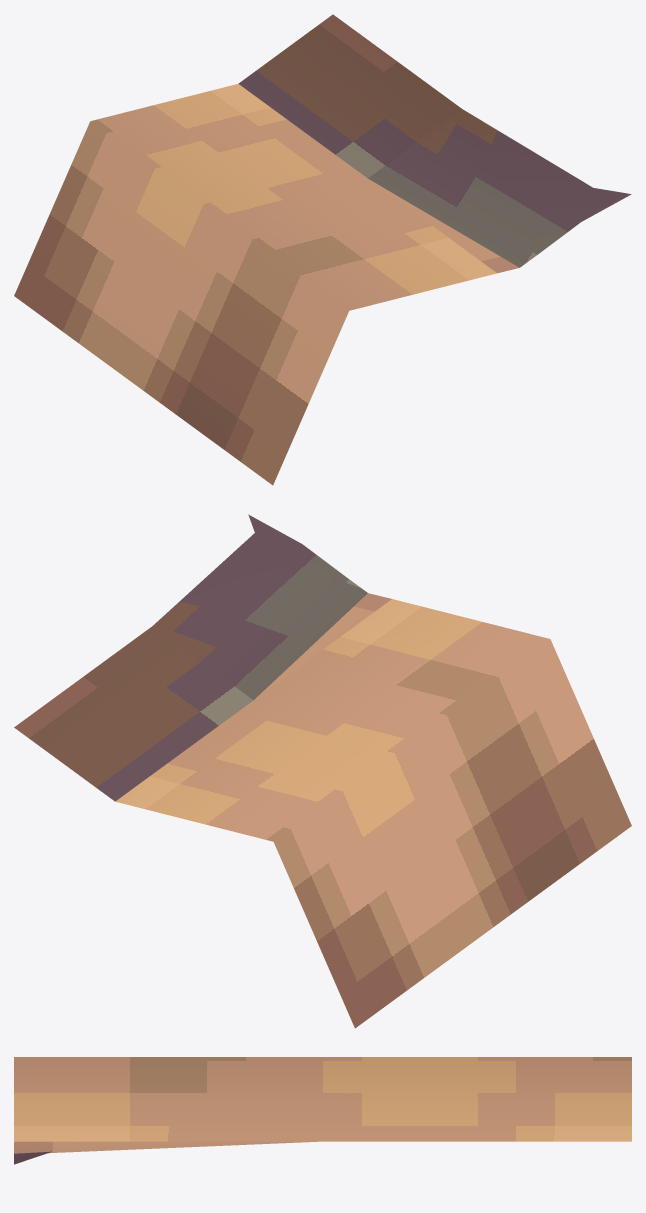
3 views of the same model, one above another, from view 1: azimuth 30°, elevation 25°; view 2: azimuth 150°, elevation 25°; view 3: azimuth 270°, elevation 25° (orthographic). The views are drawn at different scales.
Bounding box in the file's own units: 0.8 × 0.4342 × 1.
Materials: 2 (2 with a texture image).
